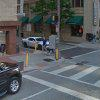Crosswalk: (43, 57, 100, 95)
